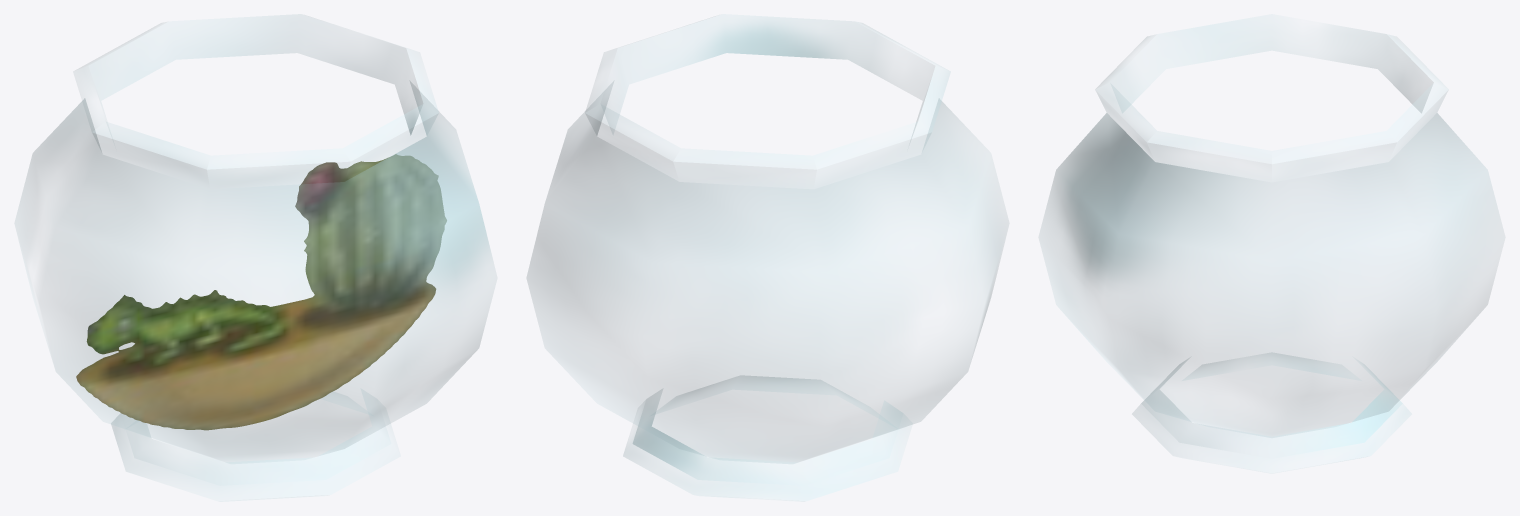
The model's file is UWlizardBowl.glb.
3 views of the same model, side by side, from view 1: azimuth 30°, elevation 25°; view 2: azimuth 150°, elevation 25°; view 3: azimuth 270°, elevation 25° (orthographic). The views are drawn at different scales.
Visible parts, largest first — view 1: bowl, lizzardScene__billboard, base; view 2: bowl, base; view 3: bowl, base.
Boxes of the visible parts, <box> form: bowl: <box>15,14,496,463</box>; lizzardScene__billboard: <box>76,154,446,430</box>; base: <box>111,389,400,501</box>; bowl: <box>527,14,1008,463</box>; base: <box>623,375,911,501</box>; bowl: <box>1039,16,1504,437</box>; base: <box>1132,353,1411,473</box>.
Size of the model in its own units: 2.45 by 1.95 by 2.45.
Materials: 2 (2 with a texture image).
